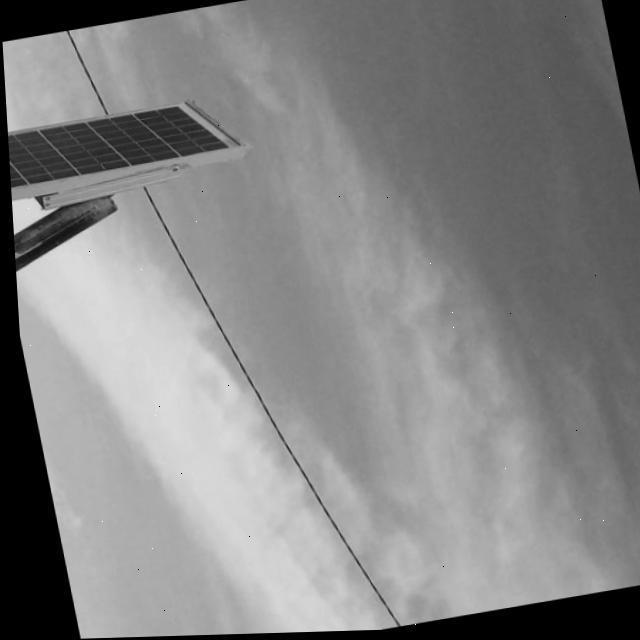Normal Solar Panel: (5, 95, 244, 192)
